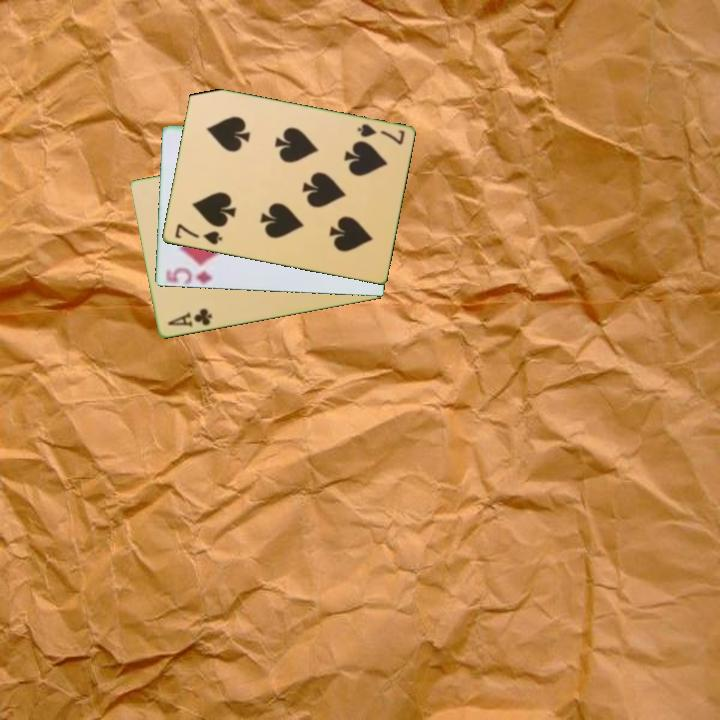5d: (164, 264, 216, 287)
7s: (171, 220, 225, 248), (353, 121, 407, 148)
Ac: (164, 305, 215, 330)
